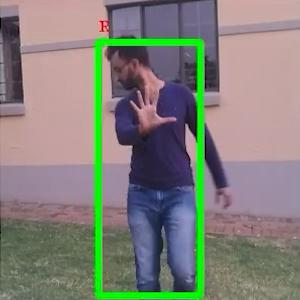follow_hand: (125, 80, 177, 135)
